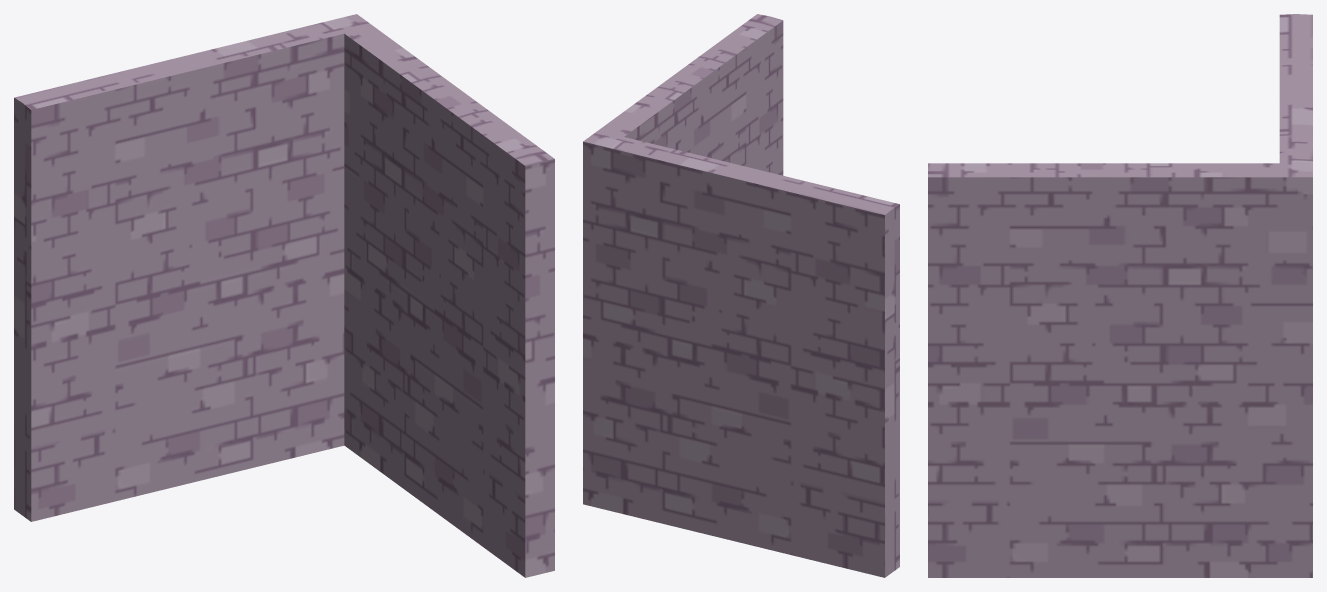
File: House_Wall_01_edit.fbx
3 renders of one model, left to right at view 1: azimuth 30°, elevation 25°; view 2: azimuth 150°, elevation 25°; view 3: azimuth 270°, elevation 25°, orthographic. The views are drawn at different scales.
Parts seen in each view (by area): view 1: SM_Bld_Base_Wall_Corner_01; view 2: SM_Bld_Base_Wall_Corner_01; view 3: SM_Bld_Base_Wall_Corner_01.
Boxes of the visible parts, x1=… form: SM_Bld_Base_Wall_Corner_01: x1=14, y1=14, x2=554, y2=577; SM_Bld_Base_Wall_Corner_01: x1=583, y1=14, x2=899, y2=577; SM_Bld_Base_Wall_Corner_01: x1=928, y1=14, x2=1312, y2=577.
Bounding box in the file's own units: 261 × 301 × 261.
